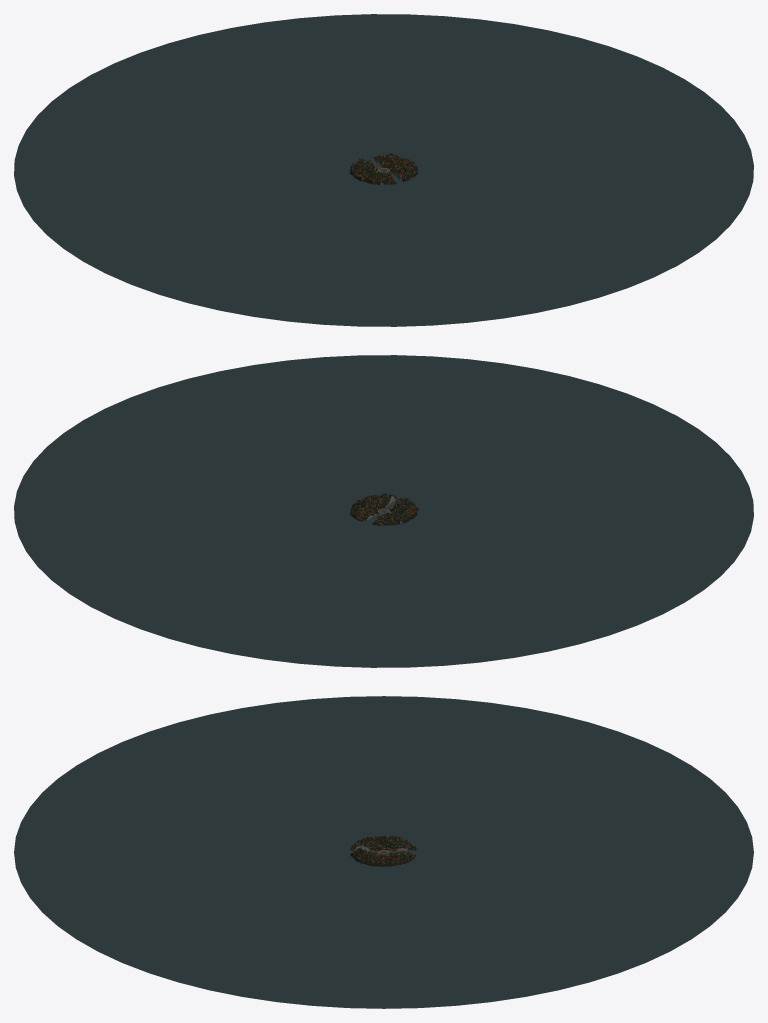
The model's file is backdrop_near_c52_autumn.glb.
3 views of the same model, one above another, from view 1: azimuth 30°, elevation 25°; view 2: azimuth 150°, elevation 25°; view 3: azimuth 270°, elevation 25° (orthographic).
Visible parts, largest first — view 1: water_S, water_N, water_W, water_E; view 2: water_N, water_S, water_W, water_E; view 3: water_E, water_N, water_S, water_W.
Boxes of the visible parts, x1,y1,x2,y2 form: water_S: (288,170,741,326); water_N: (26,14,479,170); water_W: (14,130,383,321); water_E: (384,19,753,210); water_N: (26,511,479,667); water_S: (288,355,741,511); water_W: (384,471,753,662); water_E: (14,360,383,551); water_E: (123,852,644,1008); water_N: (384,742,753,962); water_S: (14,742,383,962); water_W: (123,696,644,852).
Bounding box in the file's own units: 6000 × 177 × 6000.
5 materials, 3 textured.
